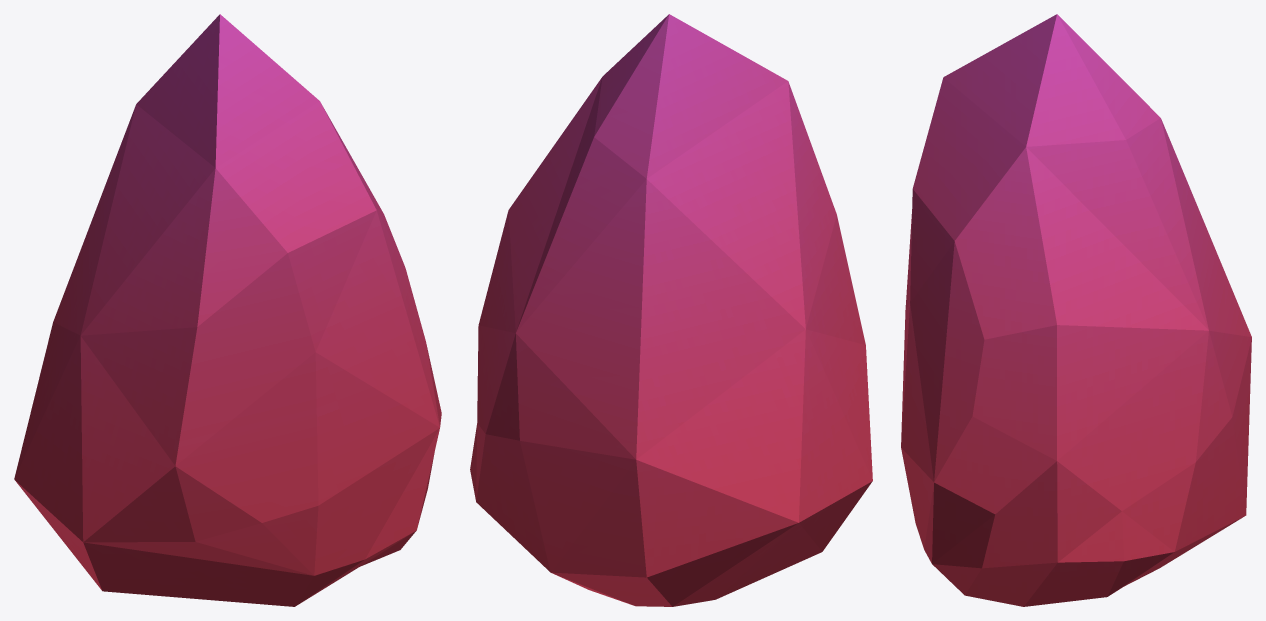
Rendered from Waterdrop_002.FBX.
3 views of the same model, side by side, from view 1: azimuth 30°, elevation 25°; view 2: azimuth 150°, elevation 25°; view 3: azimuth 270°, elevation 25° (orthographic). The views are drawn at different scales.
Visible parts, largest first — view 1: waterdrop_02; view 2: waterdrop_02; view 3: waterdrop_02.
Part boxes in pixels (<box>): waterdrop_02: <box>14,14,441,606</box>; waterdrop_02: <box>470,14,872,606</box>; waterdrop_02: <box>901,14,1251,606</box>.
Size of the model in its own units: 0.4158 by 0.624 by 0.3545.
